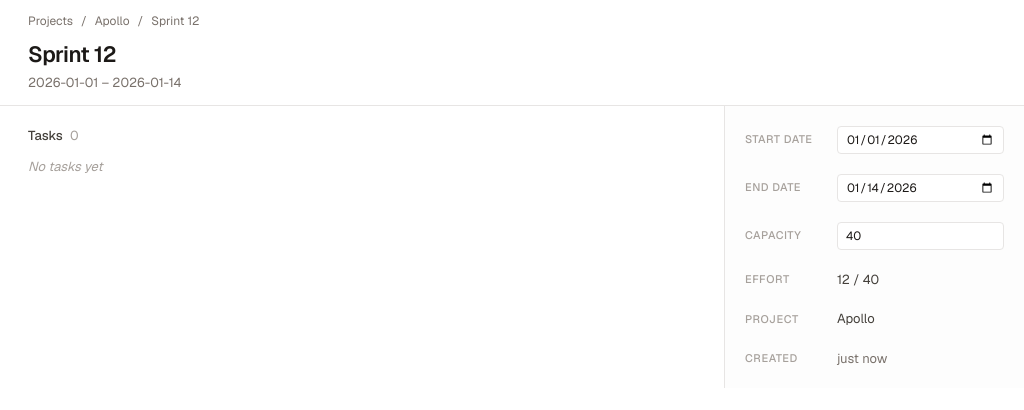
Test: SprintDetailPage click-to-edit title — manager › reverts the draft and leaves edit mode on Escape without saving
Check: the date field showing "2026-01-01" next to "Start date" is shown, box [837,126,1004,154]
Click the heading "Sprint 12". click: {"x": 72, "y": 54}
box: [28,40,116,68]
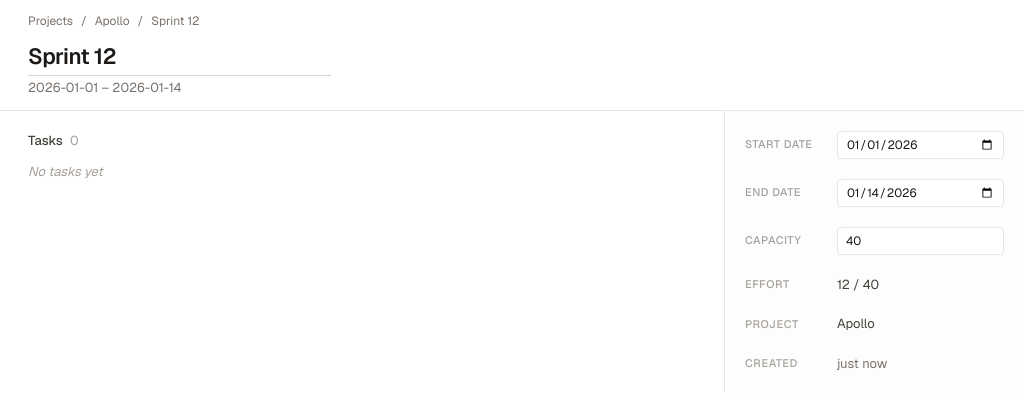
Replace the text in the field showing "Sprint 12" with "Something unsaved". click: {"x": 180, "y": 57}
box: [28,38,331,76]
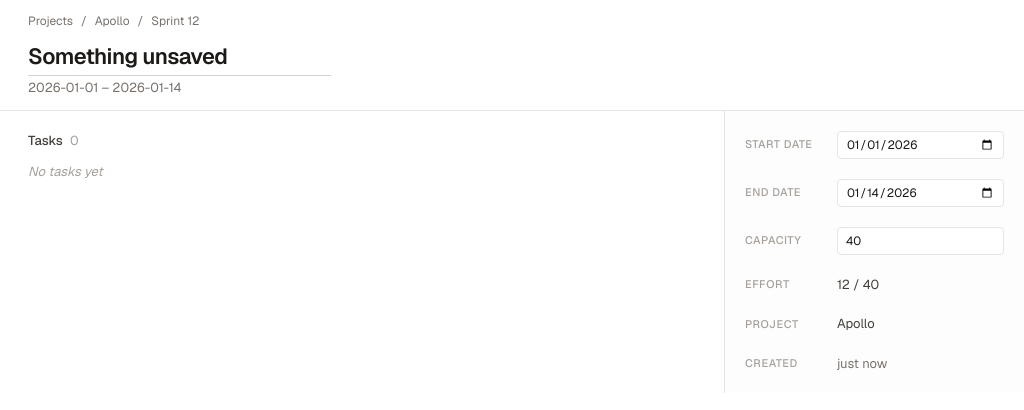
Press Escape
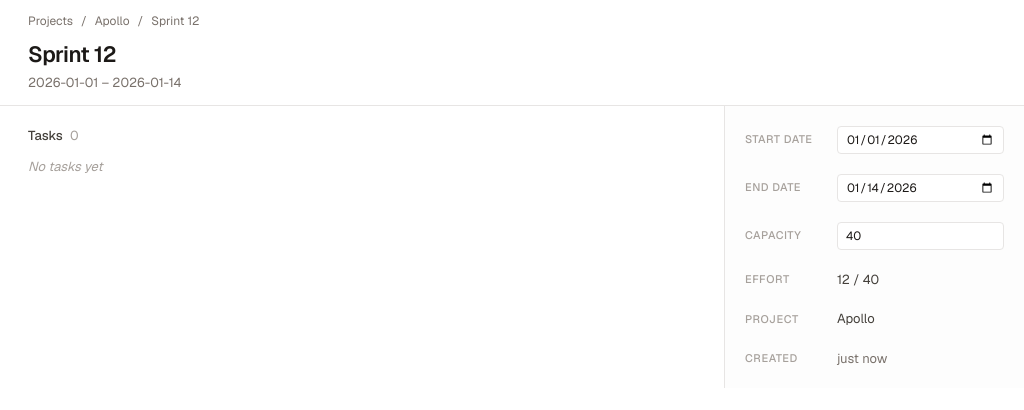
Check: the heading "Sprint 12" is shown, box [28,40,116,68]
